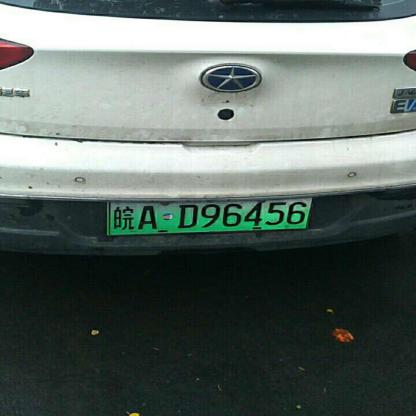lp: (108, 197, 312, 234)
